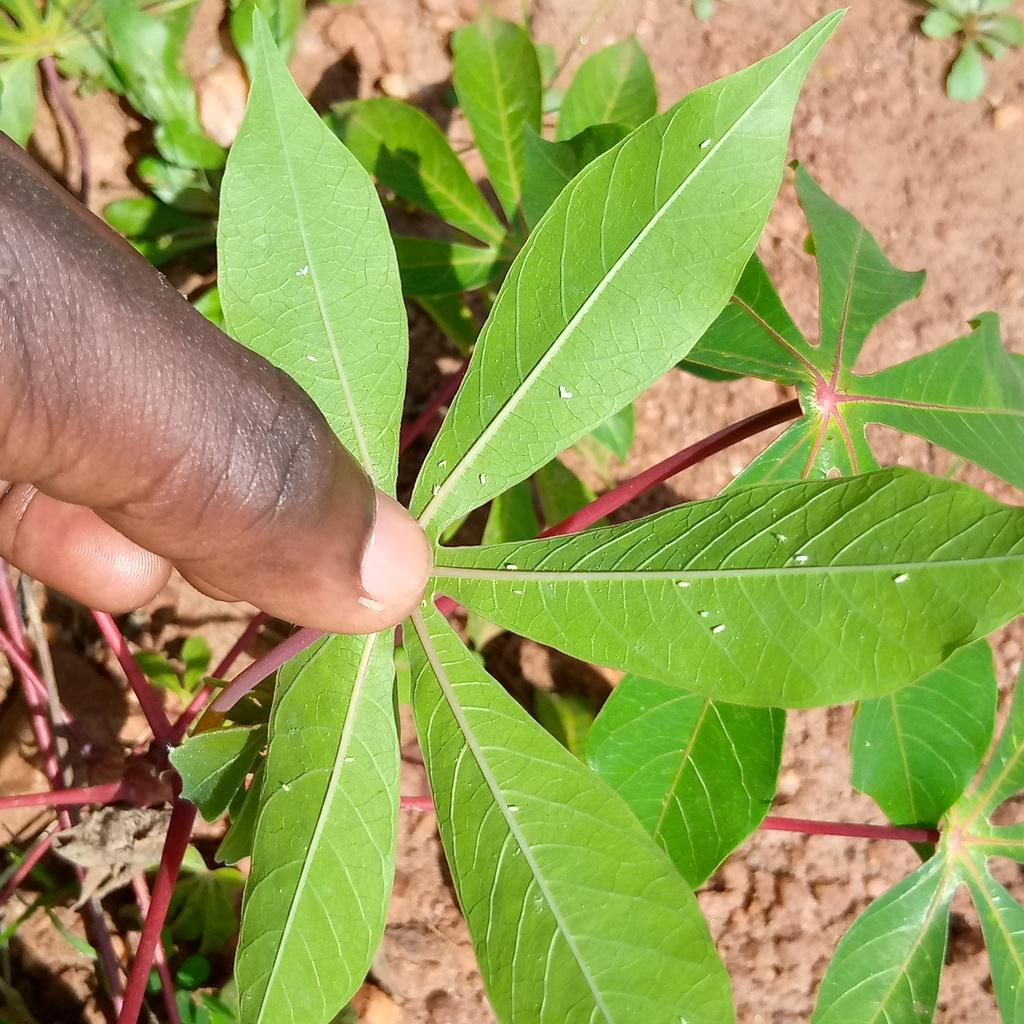adult: (558, 385, 574, 400), (295, 265, 309, 277), (794, 554, 809, 564), (893, 574, 909, 583), (699, 138, 712, 149), (432, 483, 442, 495), (713, 624, 725, 634), (306, 354, 318, 363), (479, 474, 488, 485), (438, 460, 447, 471), (508, 805, 520, 813), (506, 563, 518, 571), (776, 534, 788, 542), (677, 581, 690, 588), (281, 783, 291, 792), (699, 610, 710, 618), (344, 756, 355, 763), (679, 1016, 688, 1024), (421, 599, 428, 608), (514, 589, 523, 596), (515, 848, 521, 855)
